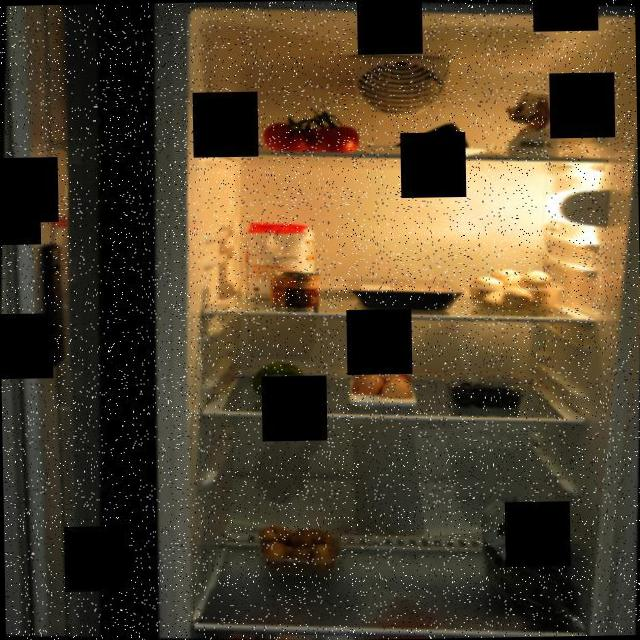Champiñones: (466, 265, 560, 314)
Huevos: (348, 366, 418, 402)
Manzana: (248, 358, 310, 400)
Patata: (254, 520, 346, 580)
Queso: (378, 116, 476, 151)
Tomate: (262, 114, 364, 158)
blueberries: (442, 374, 536, 412)
corn: (269, 268, 320, 310)
flour: (503, 88, 562, 160)
spinach: (474, 491, 584, 628)
sugar: (245, 218, 313, 296)
